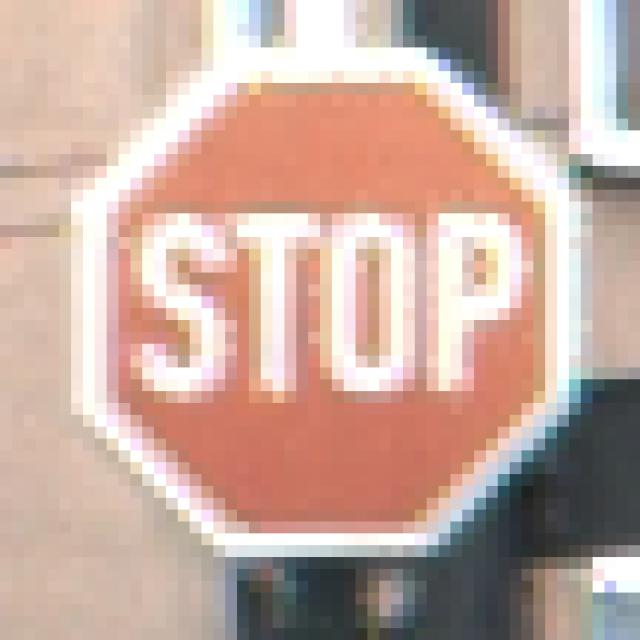STOP: (60, 60, 570, 582)
